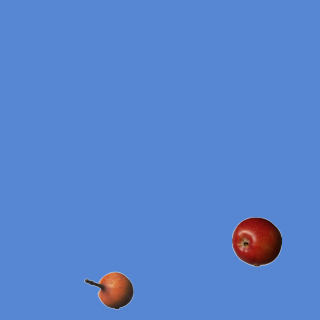Apple Braeburn: (231, 216, 281, 266)
Granadilla: (83, 265, 133, 315)
